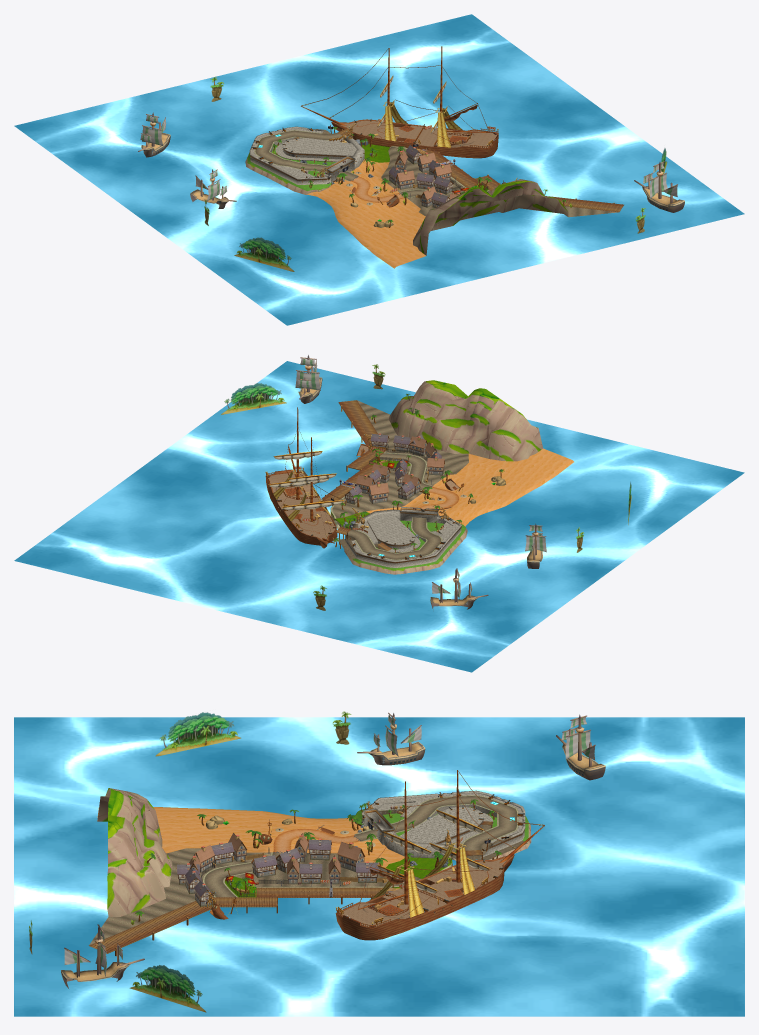
File: map-fort-royale.glb
3 views of the same model, one above another, from view 1: azimuth 30°, elevation 25°; view 2: azimuth 150°, elevation 25°; view 3: azimuth 270°, elevation 25° (orthographic). The views are drawn at different scales.
Parts seen in each view (by area): view 1: Water (1), pirateBase_02, pirateMountain, pirateShip, pirateBase_03, pirateBase_04, pirateRoad, pirateShip_driveable, pirateBase_01_driveable, ship, Island2Billboard (1), ship (2) (+2 smaller); view 2: Water (1), pirateMountain, pirateBase_02, pirateBase_03, pirateBase_01_driveable, pirateRoad, pirateBase_04, pirateShip, pirateShip_driveable, Island2Billboard, ship, pirateBase_03_driveable (+2 smaller); view 3: Water (1), pirateMountain, pirateShip, pirateBase_01_driveable, pirateBase_02, pirateRoad, pirateBase_03, pirateBase_04, pirateShip_driveable, Island2Billboard (1), Island2Billboard, ship (2) (+7 smaller).
Boxes of the visible parts, left/top/right/bottom form: Water (1): left=14, top=14, right=744, bottom=325; pirateBase_02: left=307, top=180, right=435, bottom=268; pirateMountain: left=413, top=179, right=568, bottom=255; pirateShip: left=301, top=46, right=498, bottom=158; pirateBase_03: left=245, top=128, right=364, bottom=194; pirateBase_04: left=350, top=144, right=488, bottom=197; pirateRoad: left=255, top=130, right=490, bottom=202; pirateShip_driveable: left=336, top=120, right=496, bottom=148; pirateBase_01_driveable: left=390, top=146, right=623, bottom=219; ship: left=634, top=161, right=684, bottom=212; Island2Billboard (1): left=234, top=237, right=294, bottom=271; ship (2): left=138, top=112, right=170, bottom=157; Water (1): left=14, top=361, right=744, bottom=672; pirateMountain: left=388, top=380, right=542, bottom=461; pirateBase_02: left=423, top=448, right=573, bottom=526; pirateBase_03: left=336, top=509, right=467, bottom=574; pirateBase_01_driveable: left=322, top=400, right=468, bottom=518; pirateRoad: left=346, top=453, right=459, bottom=559; pirateBase_04: left=330, top=459, right=445, bottom=528; pirateShip: left=265, top=407, right=342, bottom=548; pirateShip_driveable: left=268, top=473, right=335, bottom=541; Island2Billboard: left=221, top=383, right=286, bottom=414; ship: left=295, top=355, right=322, bottom=403; pirateBase_03_driveable: left=336, top=515, right=458, bottom=560; Water (1): left=14, top=717, right=744, bottom=1016; pirateMountain: left=97, top=788, right=172, bottom=916; pirateShip: left=335, top=770, right=544, bottom=940; pirateBase_01_driveable: left=89, top=848, right=421, bottom=952; pirateBase_02: left=97, top=807, right=362, bottom=869; pirateRoad: left=204, top=796, right=516, bottom=897; pirateBase_03: left=353, top=801, right=531, bottom=859; pirateBase_04: left=225, top=837, right=452, bottom=897; pirateShip_driveable: left=339, top=858, right=507, bottom=926; Island2Billboard (1): left=155, top=712, right=241, bottom=756; Island2Billboard: left=129, top=965, right=206, bottom=1012; ship (2): left=556, top=714, right=605, bottom=780.
Size of what is drawn, in the model's own units: 13.49 by 2.99 by 13.92.
85 materials, 83 textured.
